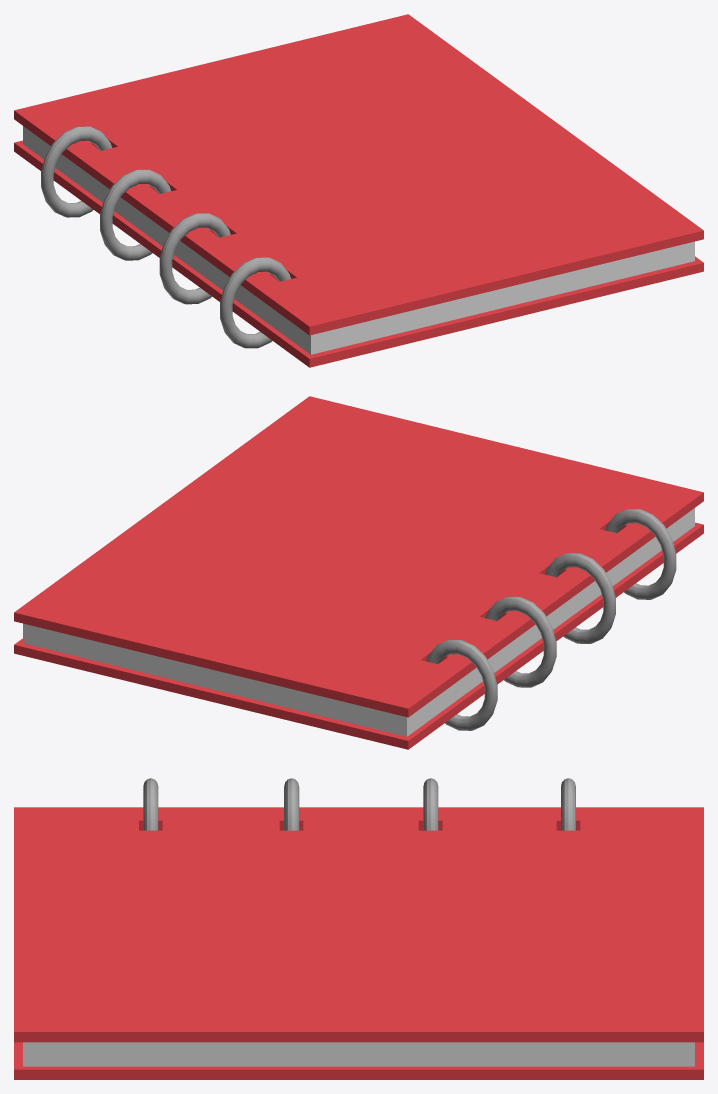
File: Notebook.fbx
The picture shows the model from 3 angles, top to bottom: view 1: azimuth 30°, elevation 25°; view 2: azimuth 150°, elevation 25°; view 3: azimuth 270°, elevation 25°; orthographic projection. The views are drawn at different scales.
Parts seen in each view (by area): view 1: notebook; view 2: notebook; view 3: notebook.
Part boxes in pixels (x1,y1,x2,y2): notebook: [14, 14, 703, 367]; notebook: [14, 396, 703, 749]; notebook: [14, 778, 703, 1079].
Size of the model in its own units: 21.48 by 25.89 by 4.35.
